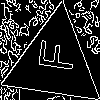F: (29, 36, 76, 73)
